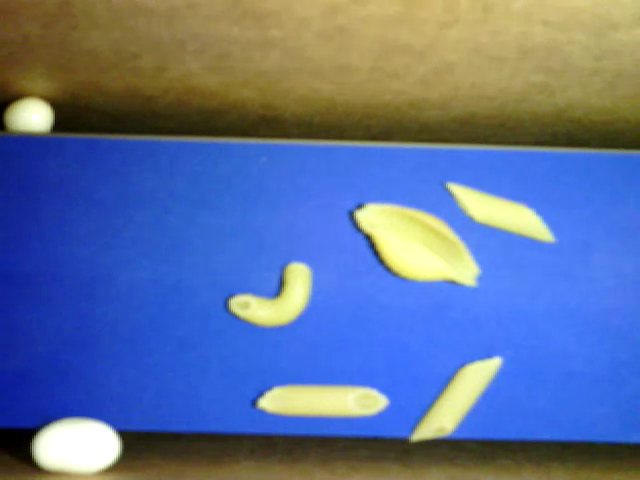elbow: (227, 260, 312, 329)
penne: (409, 356, 502, 441), (446, 182, 553, 242), (257, 384, 388, 416)
shell: (353, 203, 482, 287)
